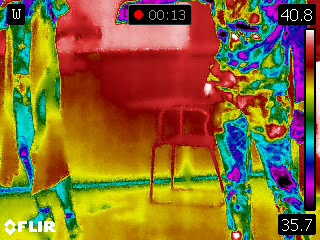human: (195, 1, 309, 240), (1, 1, 85, 239)
